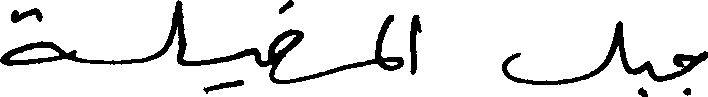ا: (408, 12, 419, 75)
ب: (644, 59, 653, 95)
ة: (0, 6, 63, 67)
ج: (671, 49, 705, 95)
ظ: (267, 0, 304, 85)
ل: (500, 18, 625, 85), (167, 0, 185, 67), (373, 12, 392, 58), (373, 53, 403, 80)
ي: (200, 45, 261, 92)
